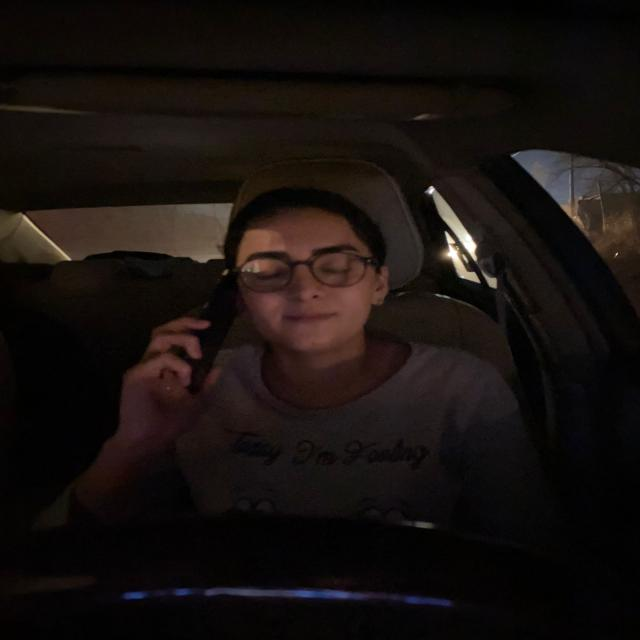mobile: (182, 276, 217, 395)
person: (240, 198, 381, 350)
